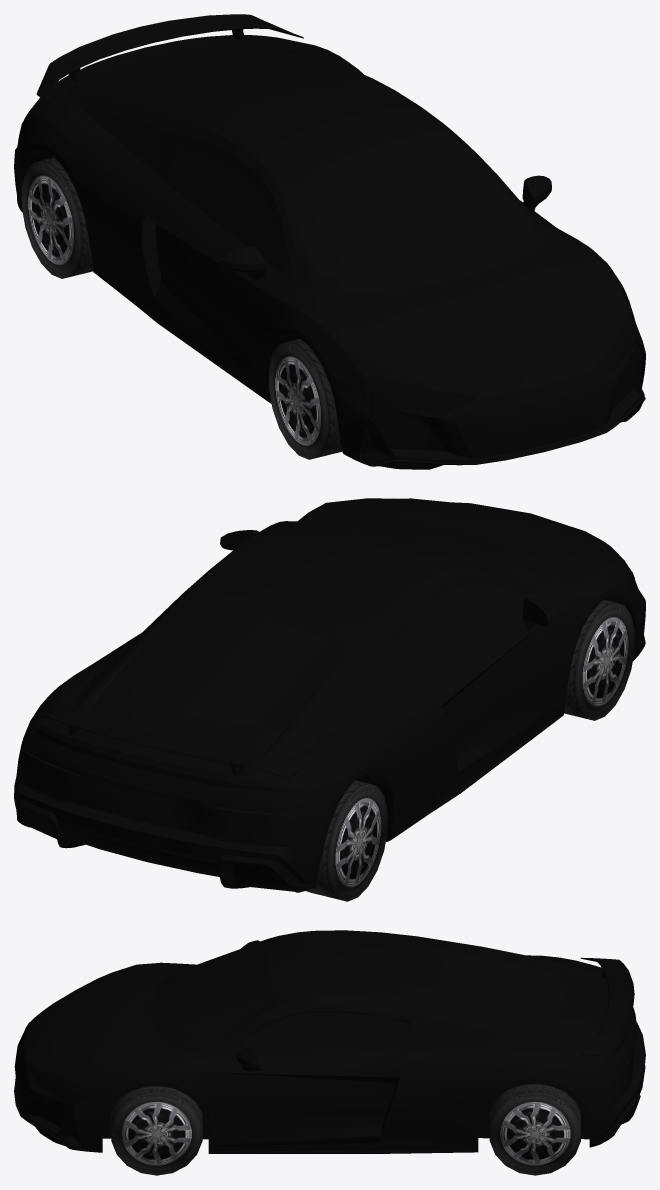
The model's file is car_19.fbx.
3 views of the same model, one above another, from view 1: azimuth 30°, elevation 25°; view 2: azimuth 150°, elevation 25°; view 3: azimuth 270°, elevation 25° (orthographic). The views are drawn at different scales.
Parts seen in each view (by area): view 1: _19_001, car_19_001, Wheel_BR_018, Wheel_BR_024, car_19_002; view 2: _19_001, car_19_001, Wheel_BR_024, Wheel_BR_018; view 3: _19_001, car_19_002, car_19_001, Wheel_BR_023, Wheel_BR_016, car_19_003.
Boxes of the visible parts, x1,y1,x2,y2 form: _19_001: [14, 14, 645, 469]; car_19_001: [131, 53, 532, 276]; Wheel_BR_018: [269, 338, 342, 459]; Wheel_BR_024: [22, 157, 93, 278]; car_19_002: [519, 175, 556, 227]; _19_001: [14, 498, 645, 892]; car_19_001: [131, 520, 531, 724]; Wheel_BR_024: [305, 780, 387, 901]; Wheel_BR_018: [564, 600, 634, 720]; _19_001: [14, 930, 645, 1153]; car_19_002: [212, 1003, 414, 1146]; car_19_001: [168, 941, 563, 1045]; Wheel_BR_023: [489, 1084, 580, 1175]; Wheel_BR_016: [111, 1086, 202, 1175]; car_19_003: [242, 1012, 409, 1052].
Bounding box in the file's own units: 156 × 95.11 × 339.
